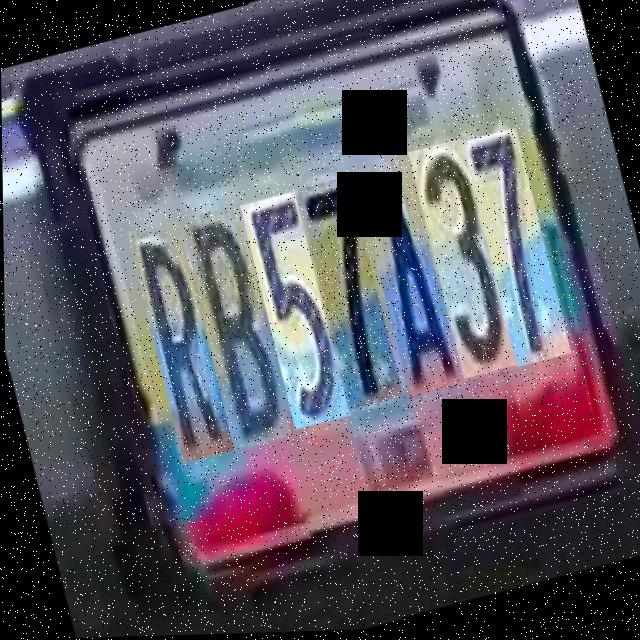3: (407, 140, 517, 385)
5: (239, 189, 351, 431)
7: (461, 129, 570, 371), (295, 177, 401, 412)
A: (352, 159, 461, 400)
B: (179, 204, 290, 450)
R: (125, 217, 232, 464)
